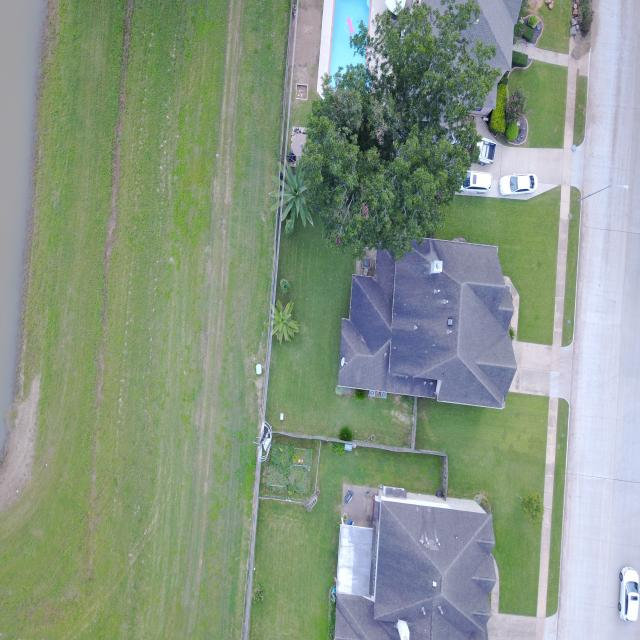fire: (0, 0, 45, 453)
